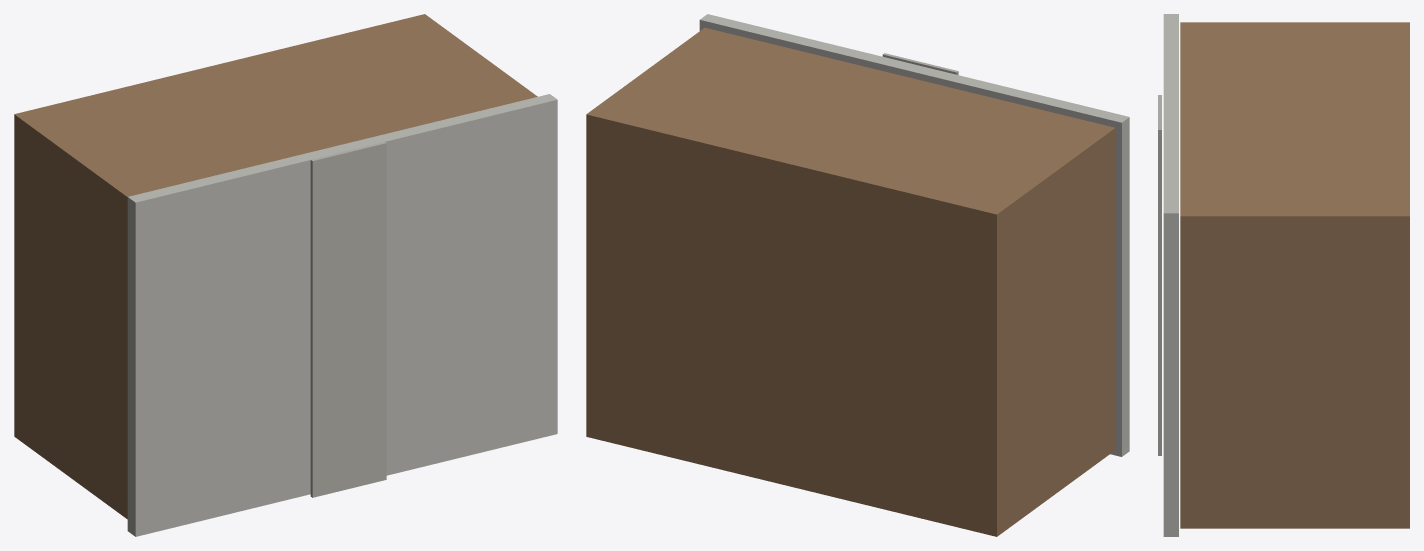
3 renders of one model, left to right at view 1: azimuth 30°, elevation 25°; view 2: azimuth 150°, elevation 25°; view 3: azimuth 270°, elevation 25°, orthographic. The views are drawn at different scales.
Visible parts, largest first — view 1: PR-009_001_CardboardFoldedTop_paper_side, PR-009_000_KraftBoxShell_wood, PR-009_002_PackingTape_aged_white; view 2: PR-009_000_KraftBoxShell_wood, PR-009_001_CardboardFoldedTop_paper_side; view 3: PR-009_000_KraftBoxShell_wood, PR-009_001_CardboardFoldedTop_paper_side, PR-009_002_PackingTape_aged_white.
Boxes of the visible parts, x1,y1,x2,y2 form: PR-009_001_CardboardFoldedTop_paper_side: (127,94,557,536); PR-009_000_KraftBoxShell_wood: (14,14,537,519); PR-009_002_PackingTape_aged_white: (310,141,386,497); PR-009_000_KraftBoxShell_wood: (586,27,1115,536); PR-009_001_CardboardFoldedTop_paper_side: (699,14,1129,456); PR-009_000_KraftBoxShell_wood: (1180,22,1409,528); PR-009_001_CardboardFoldedTop_paper_side: (1163,14,1178,536); PR-009_002_PackingTape_aged_white: (1158,95,1161,455).
Size of the model in its own units: 0.37 by 0.282 by 0.1975.
